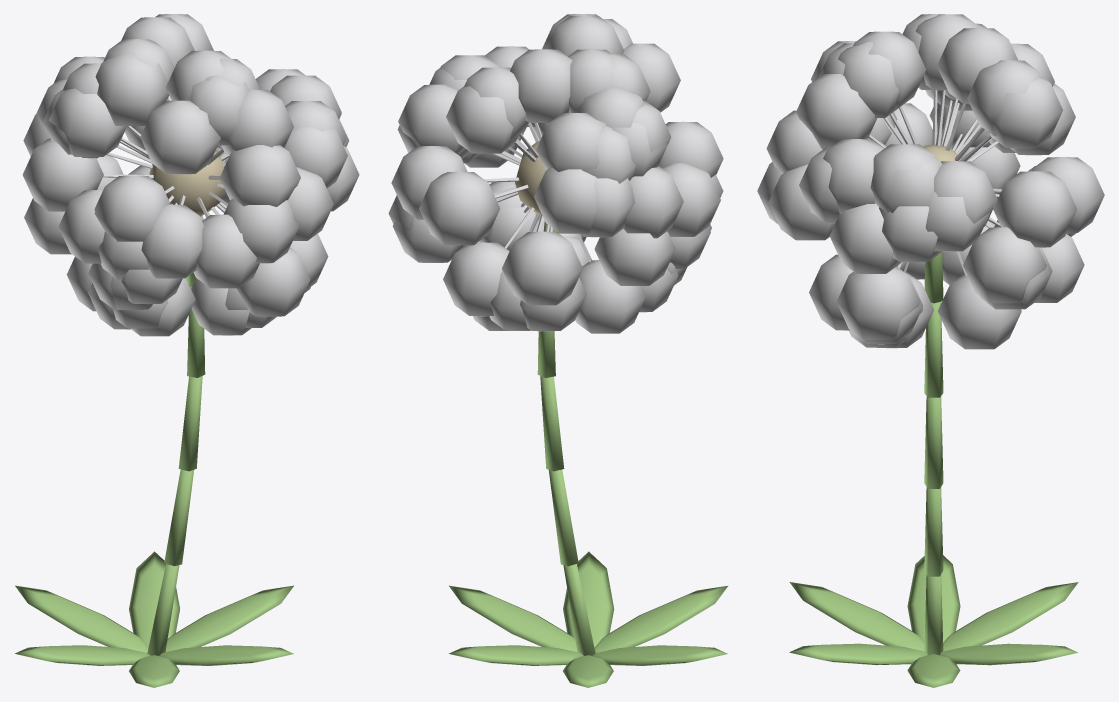
Rendered from dandelion_lite.glb.
The picture shows the model from 3 angles, left to right: view 1: azimuth 30°, elevation 25°; view 2: azimuth 150°, elevation 25°; view 3: azimuth 270°, elevation 25°; orthographic projection. The views are drawn at different scales.
Visible parts, largest first — view 1: Cone; view 2: Cone; view 3: Cone.
Boxes of the visible parts, box(x1,y1,x2,y2) form: Cone: box(15, 14, 359, 687); Cone: box(388, 14, 727, 687); Cone: box(757, 14, 1104, 687).
Size of the model in its own units: 0.4468 by 0.8427 by 0.4128.
